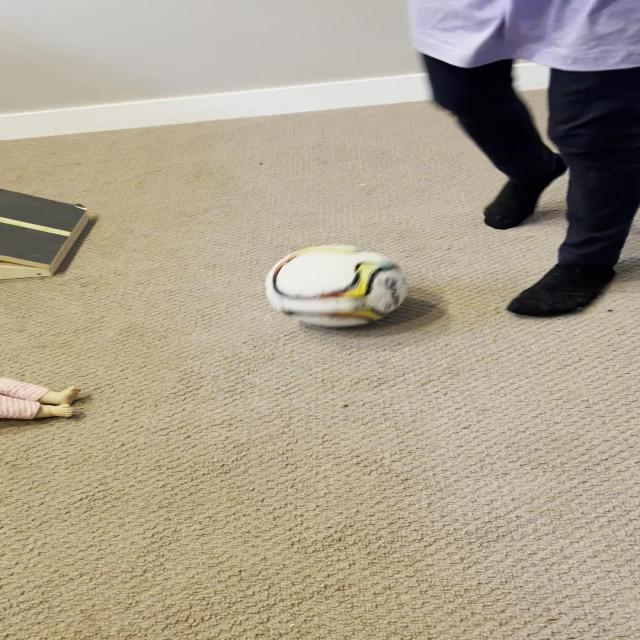Soccer Ball: (267, 244, 408, 326)
